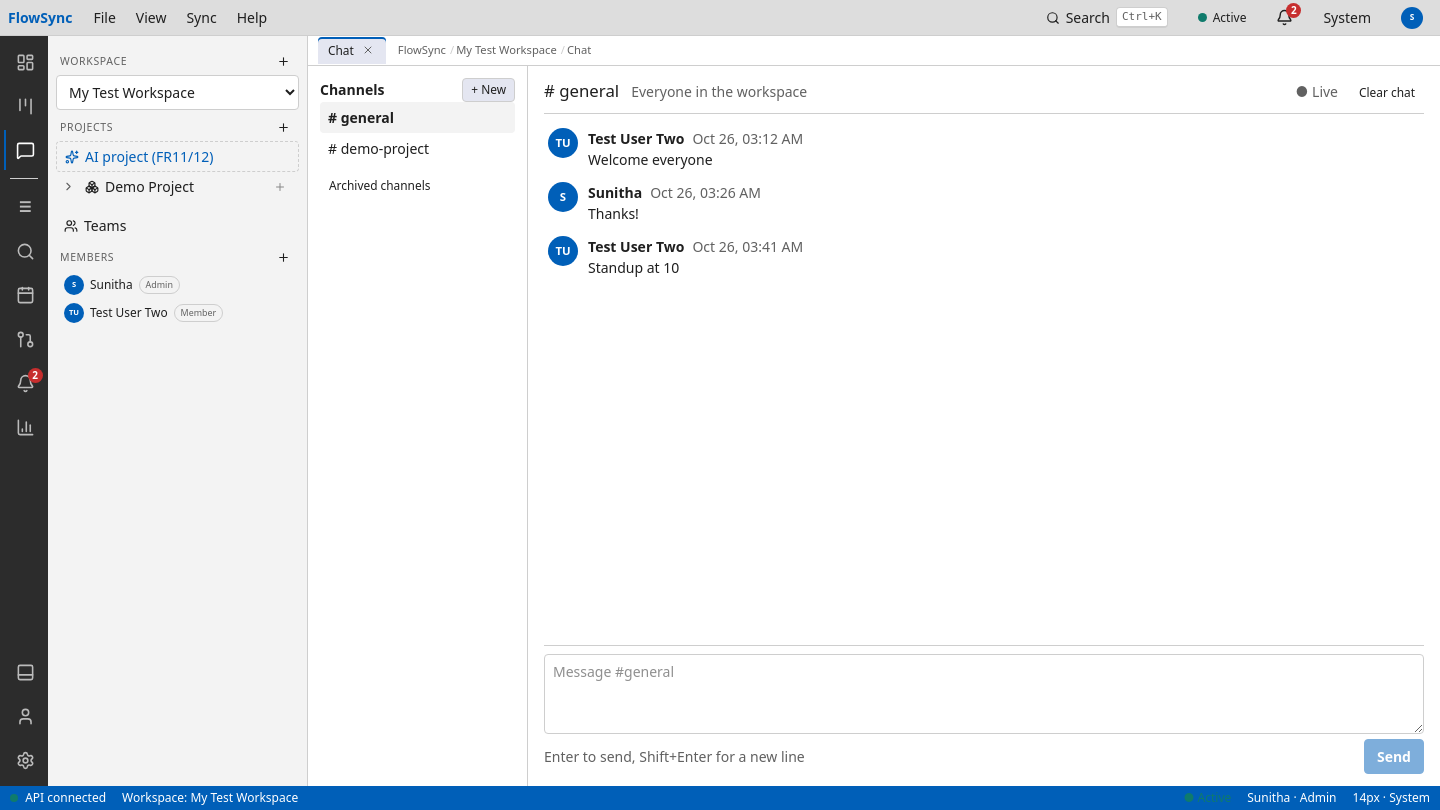
Test: FR26: channels › an Admin creates a channel; bad and duplicate names show the server's reason
The width and height of the screenshot is (1440, 810).
Check: the text "Welcome everyone" is shown, box [588, 150, 713, 169]
Click the button with aria-label "New channel".
click(489, 90)  # box [462, 78, 515, 102]
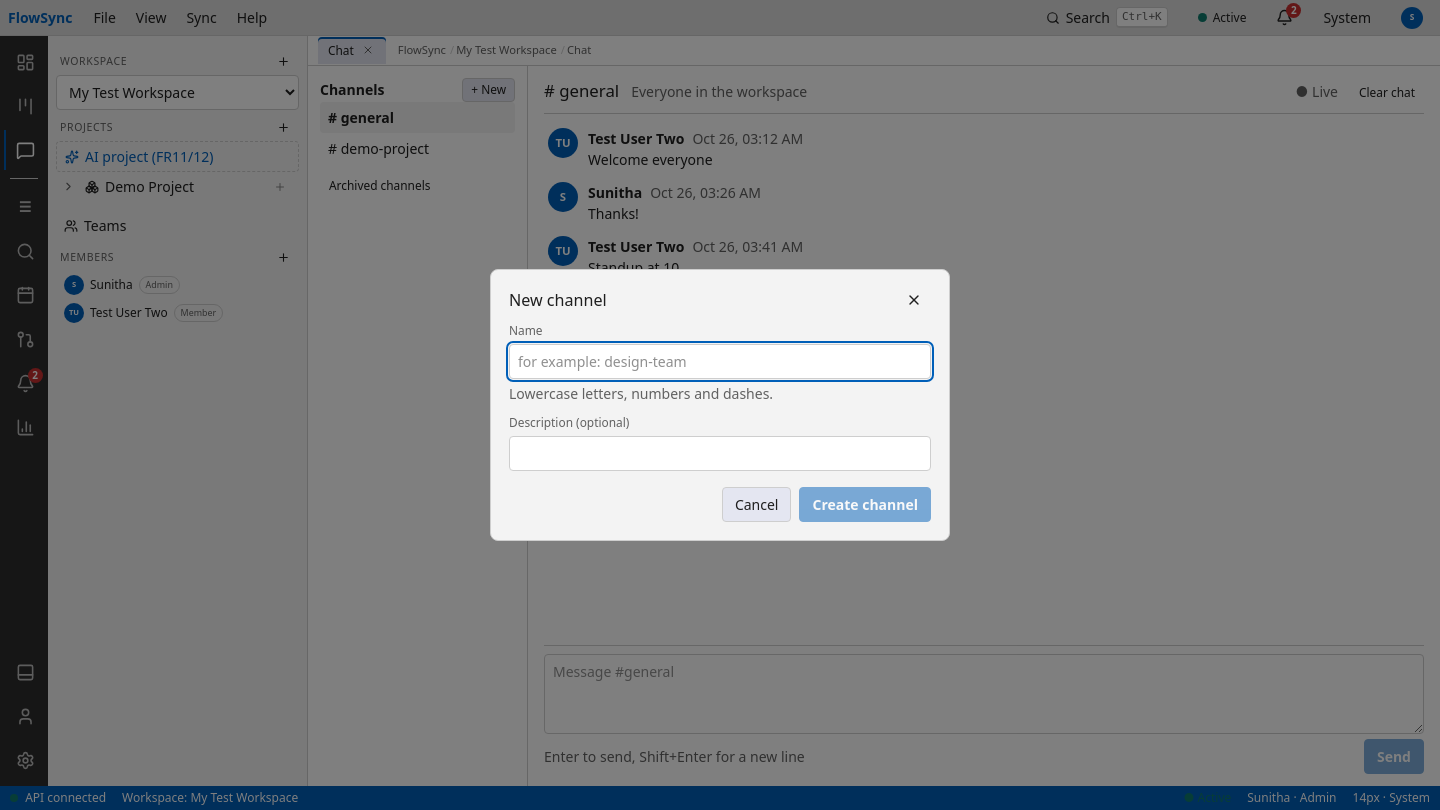
Type "general" into the field labelled "Name".
click(720, 362); type("general")  # box [509, 344, 931, 379]
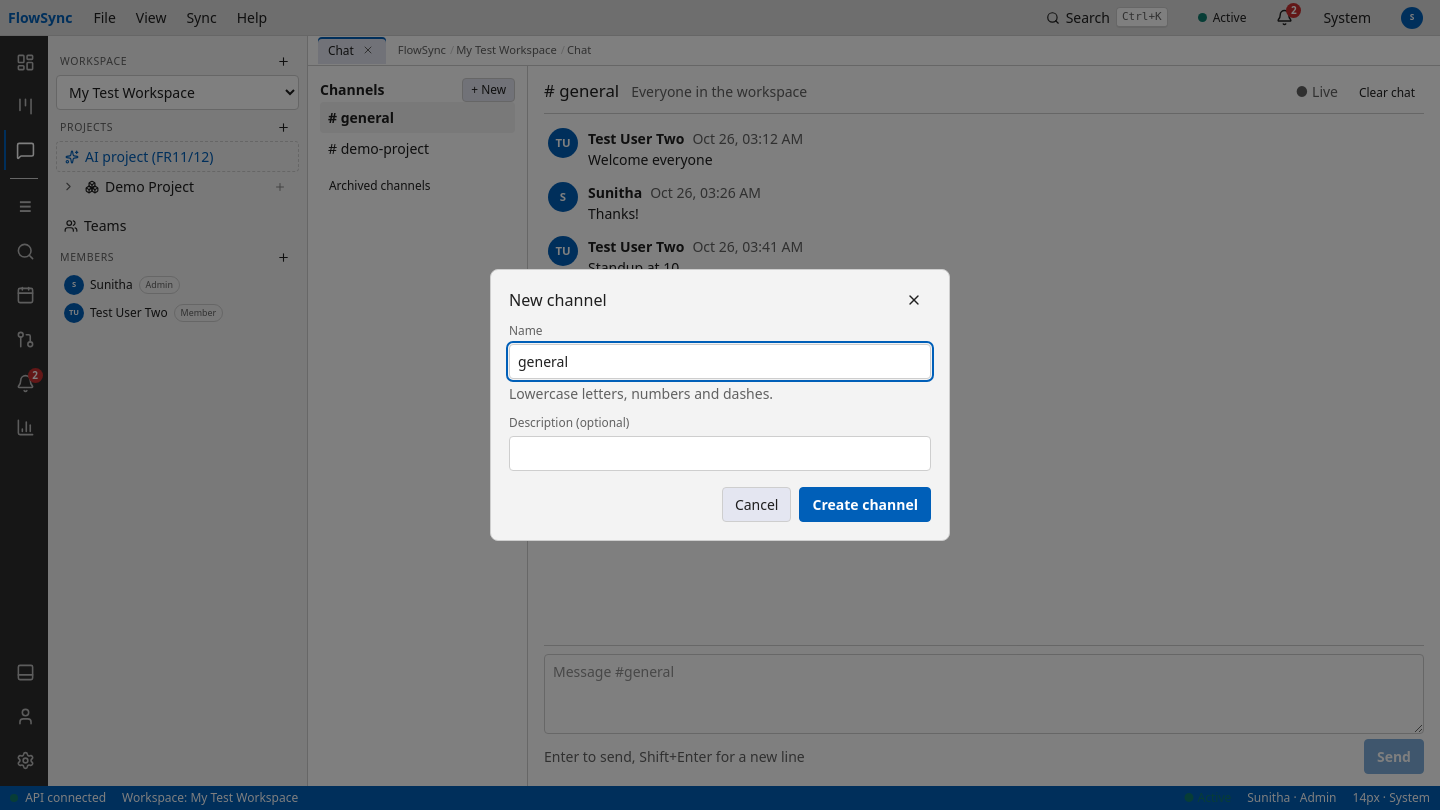
Click the button "Create channel".
click(865, 504)  # box [800, 487, 931, 522]
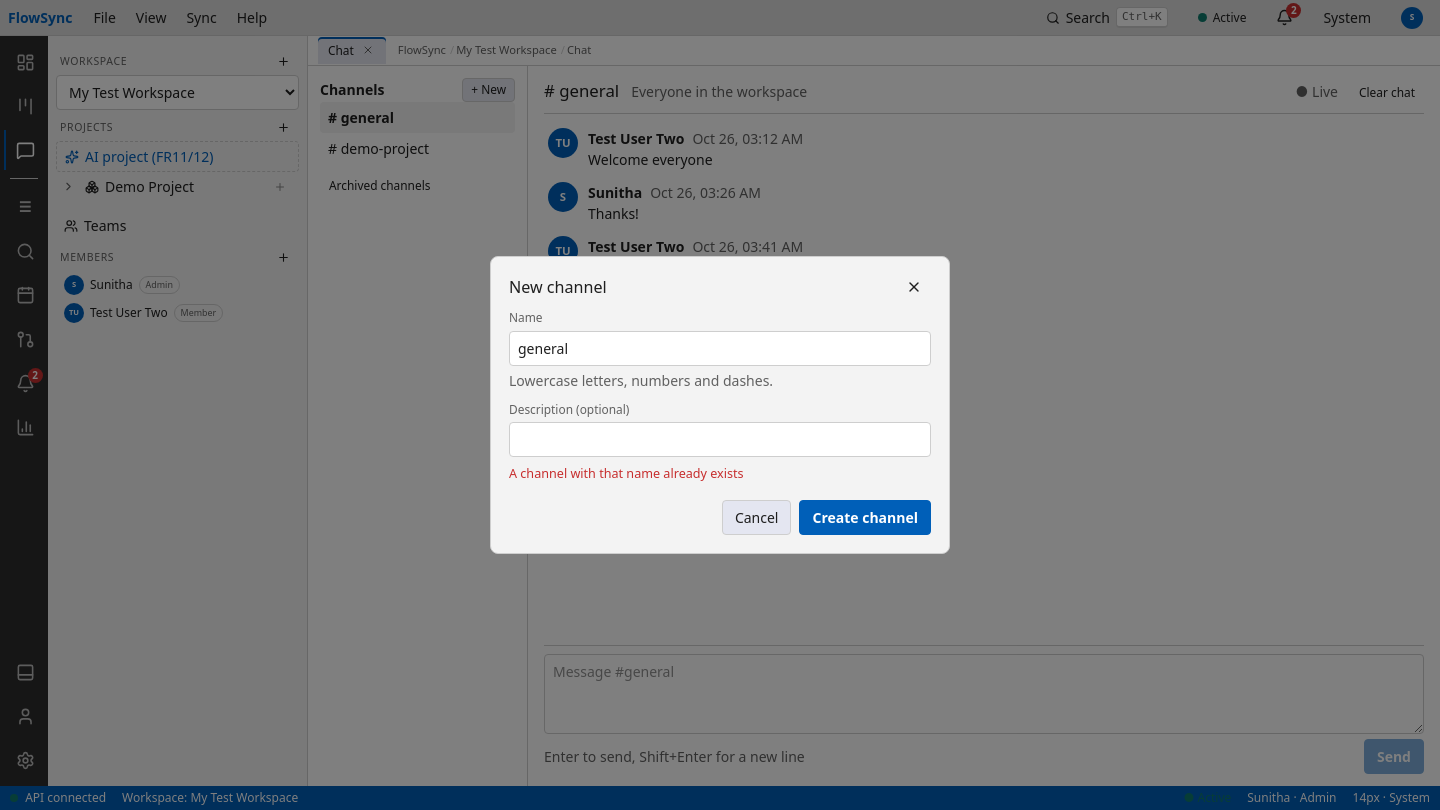
Check: the message shows "already exists", box [509, 466, 744, 482]
Replace the text in the field labelled "Name" with "bad name!" at (720, 348), box [509, 331, 931, 366]
Click the button "Create channel".
click(865, 518)  # box [800, 500, 931, 535]
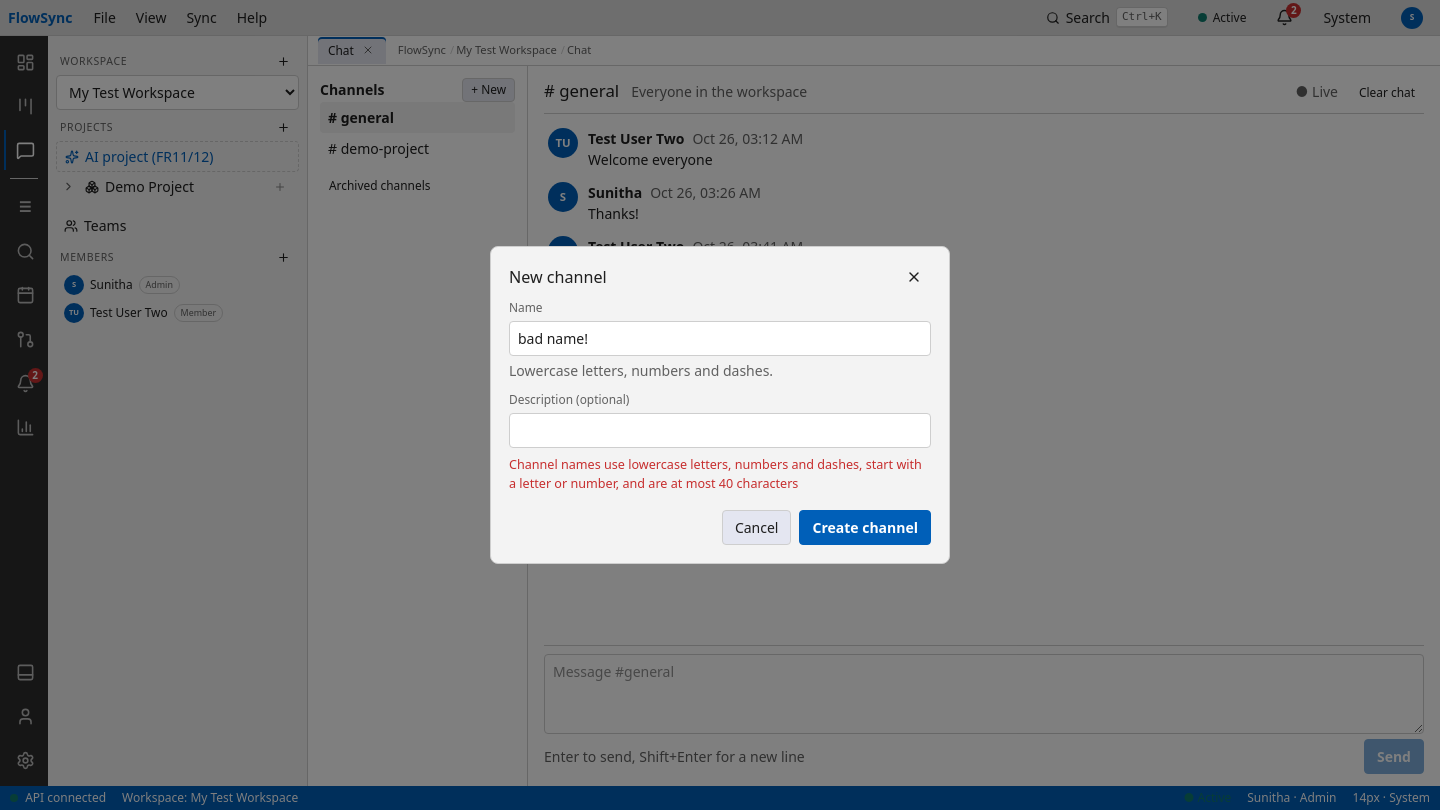
Check: the message shows "lowercase letters, numbers and dashes", box [509, 456, 922, 492]
Replace the text in the field labelled "Name" with "Design Team" at (720, 339), box [509, 321, 931, 356]
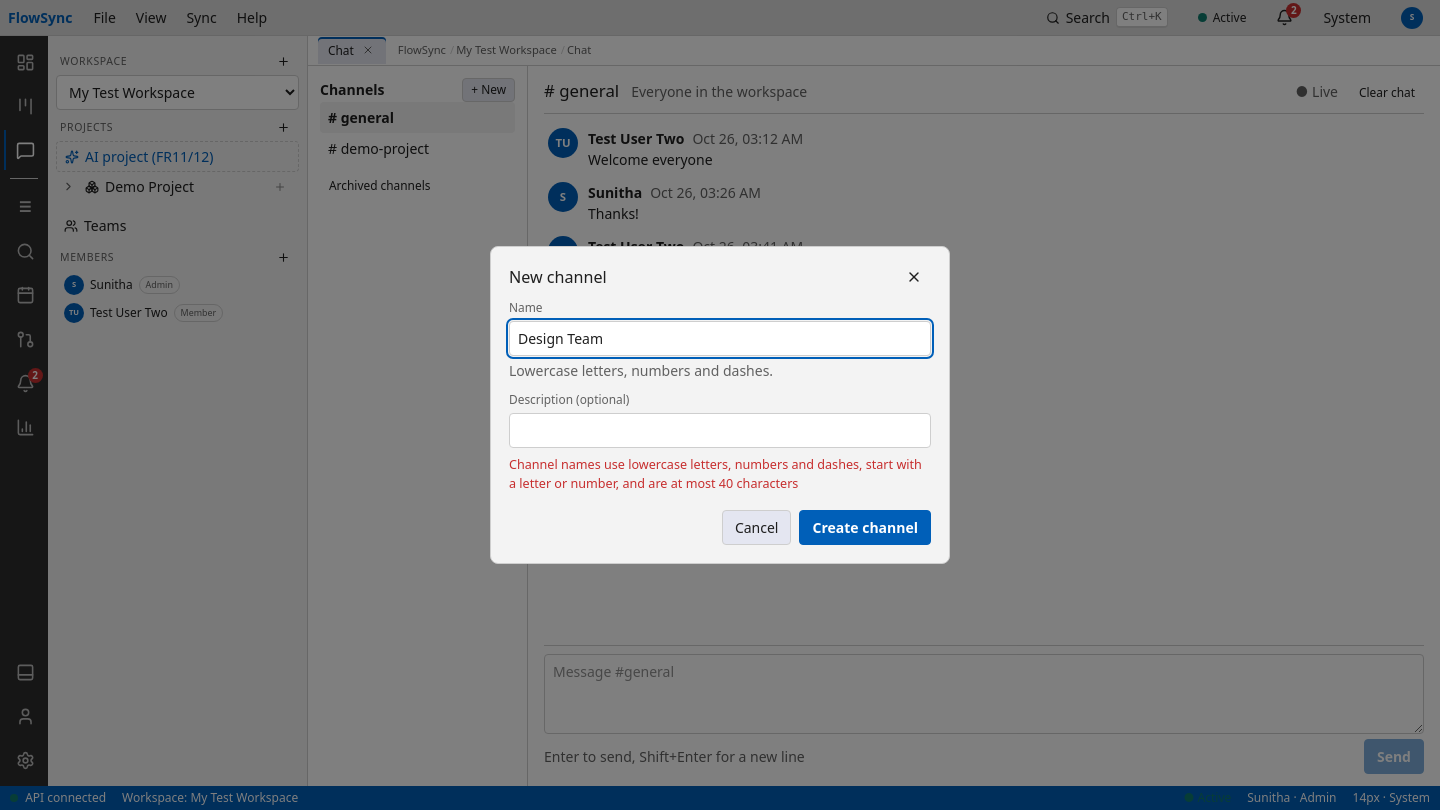
Click the button "Create channel".
click(865, 527)  # box [800, 510, 931, 545]
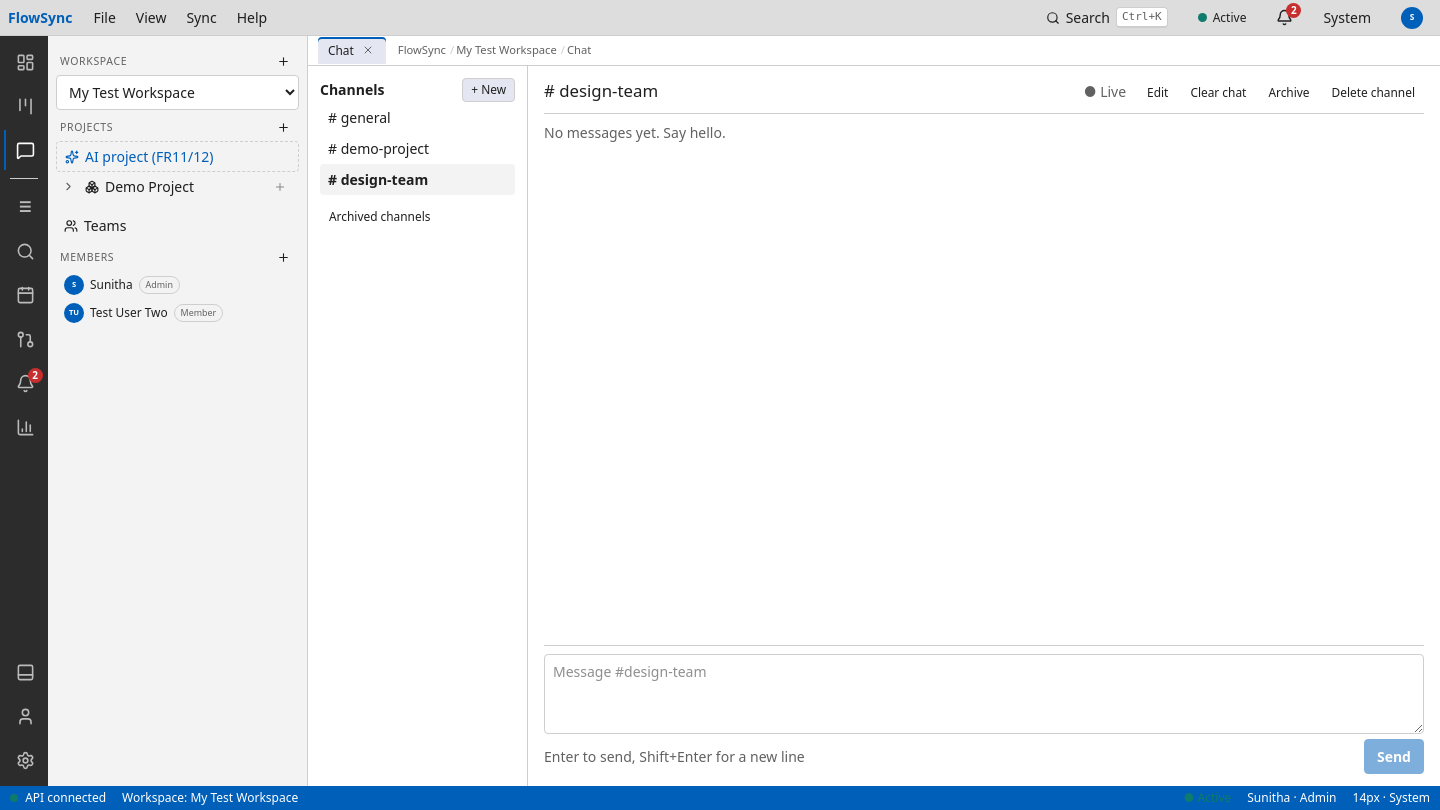
Check: the heading "# design-team" is shown, box [544, 78, 658, 103]
Check: the heading "New channel" is gone
